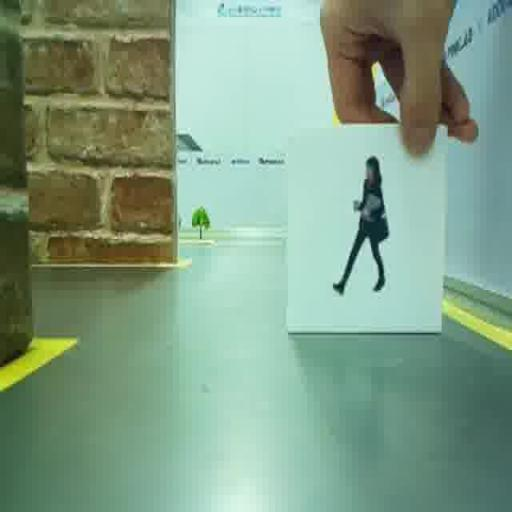human: (333, 156, 389, 293)
